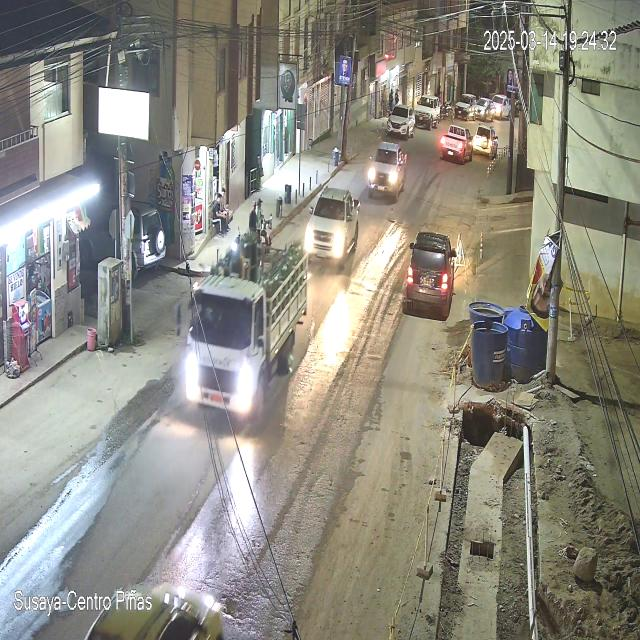CMT: (302, 185, 362, 270)
TRUCK: (184, 239, 306, 415)
